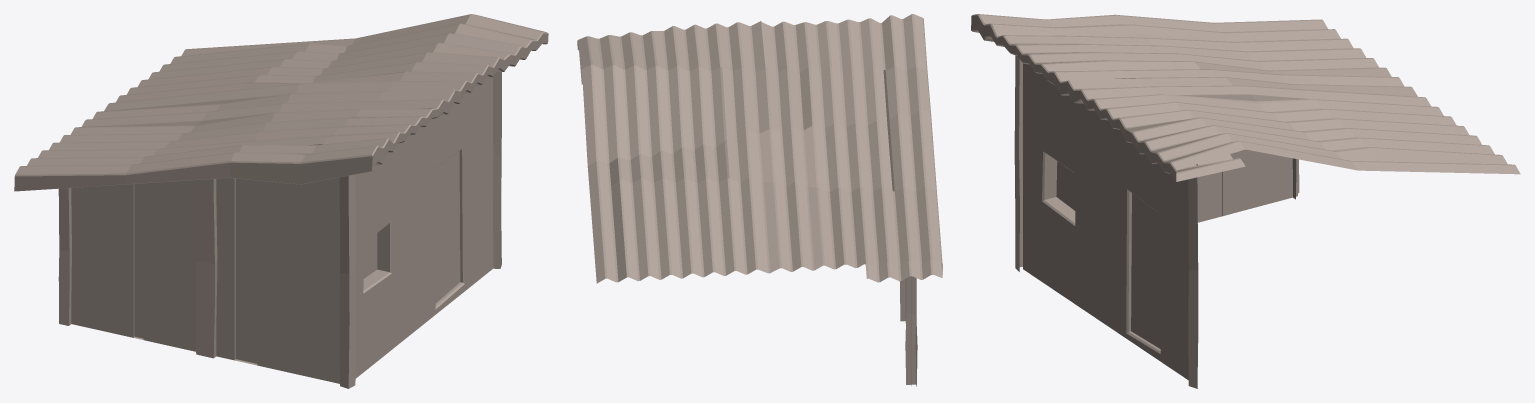
File: s_shack.fbx
3 views of the same model, side by side, from view 1: azimuth 30°, elevation 25°; view 2: azimuth 150°, elevation 25°; view 3: azimuth 270°, elevation 25° (orthographic). The views are drawn at different scales.
Visible parts, largest first — view 1: shack; view 2: shack; view 3: shack.
Boxes of the visible parts, x1=… form: shack: x1=14, y1=14, x2=548, y2=388; shack: x1=577, y1=14, x2=942, y2=386; shack: x1=971, y1=14, x2=1520, y2=388.
Size of the model in its own units: 3.38 by 1.76 by 3.38.
